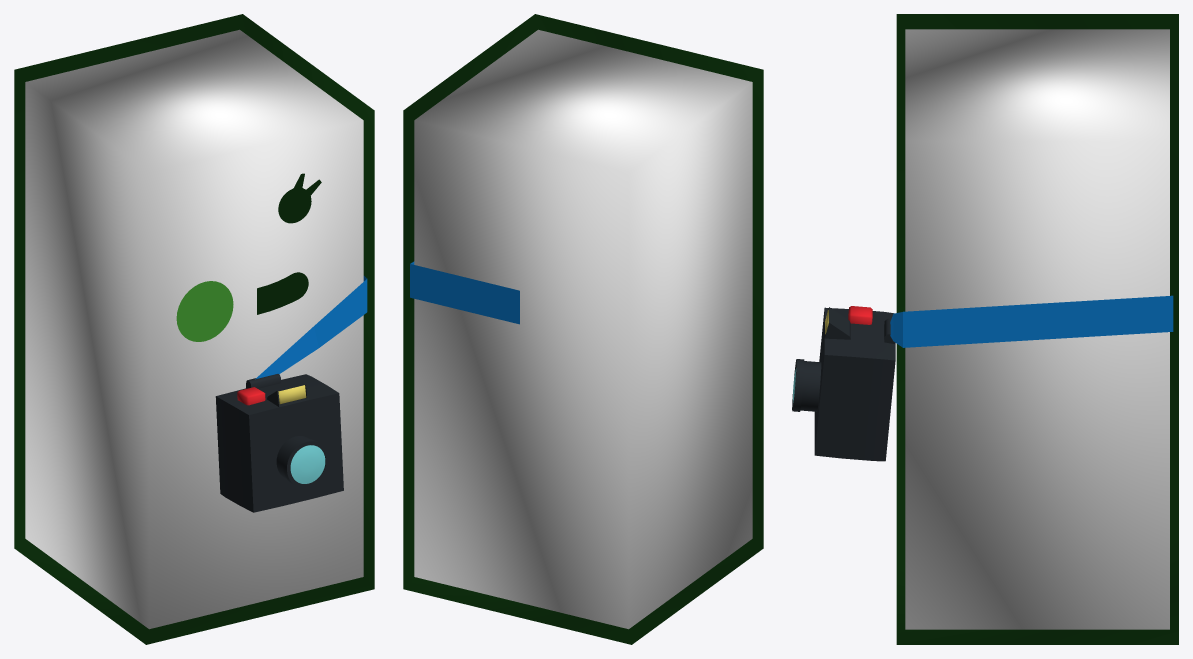
File: gelatina.glb
3 renders of one model, left to right at view 1: azimuth 30°, elevation 25°; view 2: azimuth 150°, elevation 25°; view 3: azimuth 270°, elevation 25°, orthographic. The views are drawn at different scales.
Visible parts, largest first — view 1: Gelatina, GelatinaBG, CameraOBJ, Cheeks, Plane, Mouth, Eyes; view 2: Gelatina, GelatinaBG, Plane; view 3: Gelatina, GelatinaBG, CameraOBJ, Plane.
Boxes of the visible parts, x1,y1,x2,y2 form: Gelatina: (25,29,363,629); GelatinaBG: (14,14,374,644); CameraOBJ: (215,374,343,512); Cheeks: (176,281,233,341); Plane: (255,276,367,379); Mouth: (257,272,308,314); Eyes: (278,173,321,223); Gelatina: (414,29,752,629); GelatinaBG: (403,14,763,644); Plane: (410,261,519,324); Gelatina: (905,29,1169,629); GelatinaBG: (896,14,1178,644); CameraOBJ: (792,306,895,461); Plane: (890,295,1173,347).
Size of the model in its own units: 2 by 4 by 2.74.
